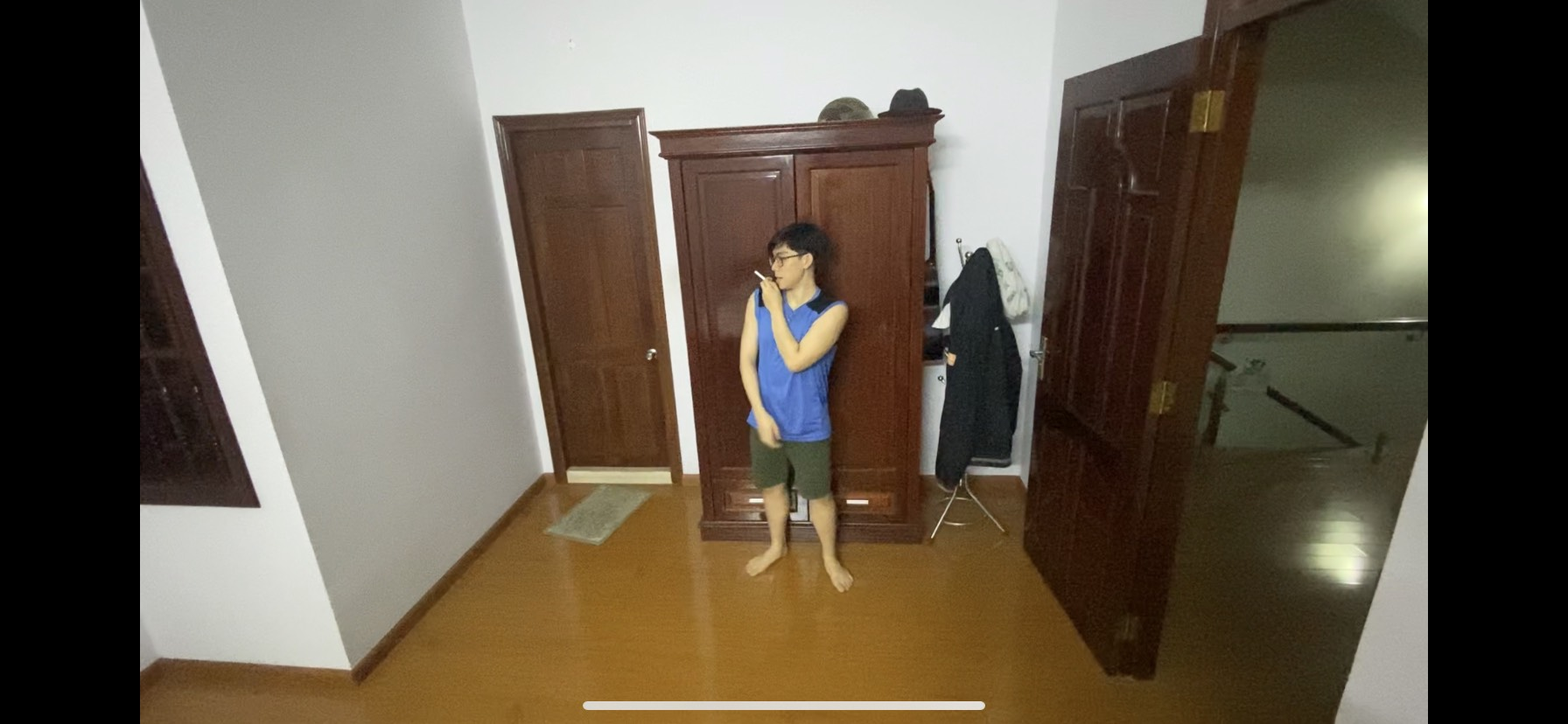cigarette: (753, 268, 767, 280)
person: (722, 215, 869, 602)
